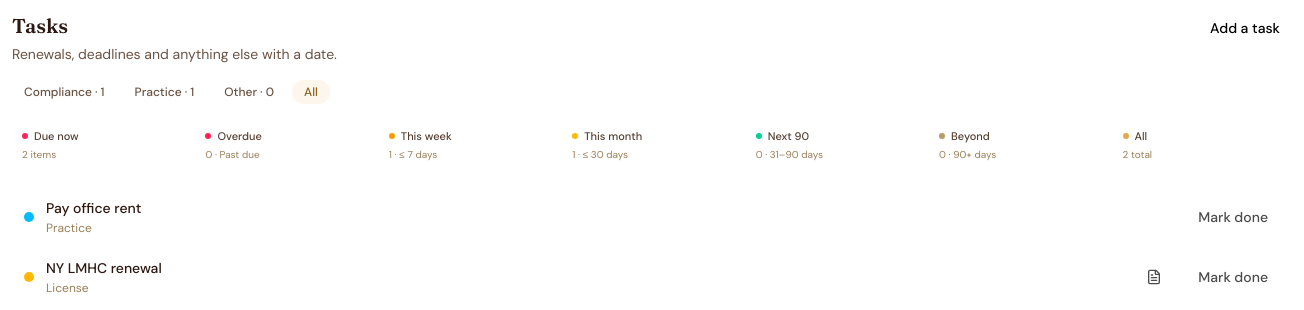
Test case: TasksPanel › filters by category, Compliance first
The width and height of the screenshot is (1304, 310).
Step 1. Click the radio button labelled "Practice · 1" → x=164, y=92, box top-left (123, 80), bottom-right (206, 104)
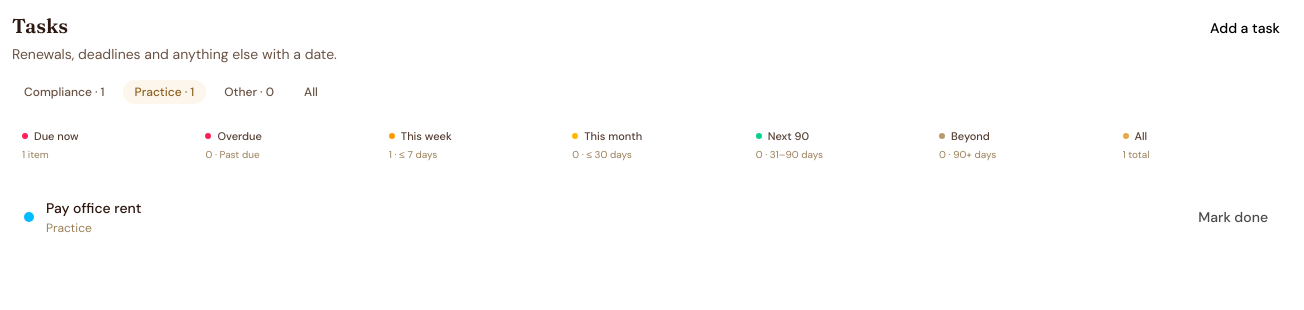
Expected: the list item with test id "compliance-item-rent" is shown, top-left (12, 190), bottom-right (1292, 244)
Now the list item with test id "compliance-item-soon" is gone
Step 2. Click the radio button labelled "Compliance · 1" → x=64, y=92, box top-left (12, 80), bottom-right (117, 104)
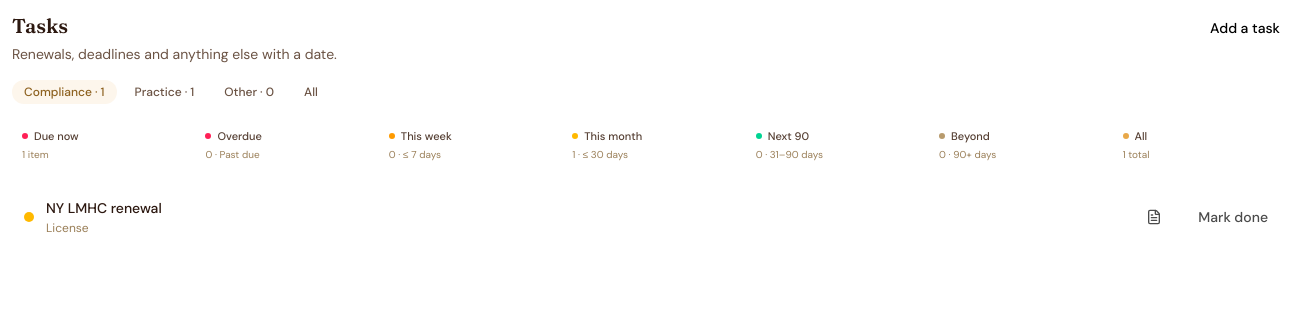
Now the list item with test id "compliance-item-soon" is shown, box top-left (12, 190), bottom-right (1292, 244)
Now the list item with test id "compliance-item-rent" is gone
